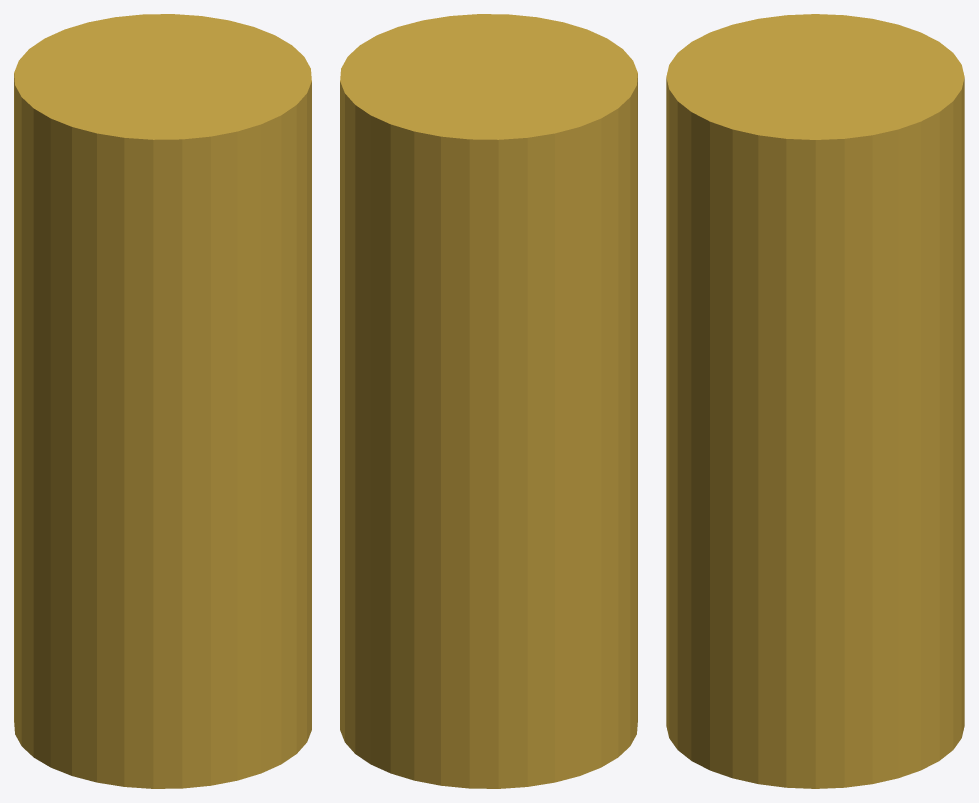
The model's file is yellow_cylinder_010_024_s2.dae.
3 renders of one model, left to right at view 1: azimuth 30°, elevation 25°; view 2: azimuth 150°, elevation 25°; view 3: azimuth 270°, elevation 25°, orthographic.
Visible parts, largest first — view 1: Cylinder; view 2: Cylinder; view 3: Cylinder.
Boxes of the visible parts, x1,y1,x2,y2 form: Cylinder: (14,14,311,788); Cylinder: (340,14,637,788); Cylinder: (666,14,964,788).
Size of the model in its own units: 0.1 by 0.1 by 0.24.
